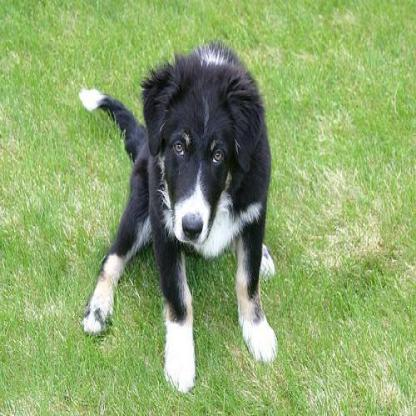Border_collie: (77, 41, 279, 387)
